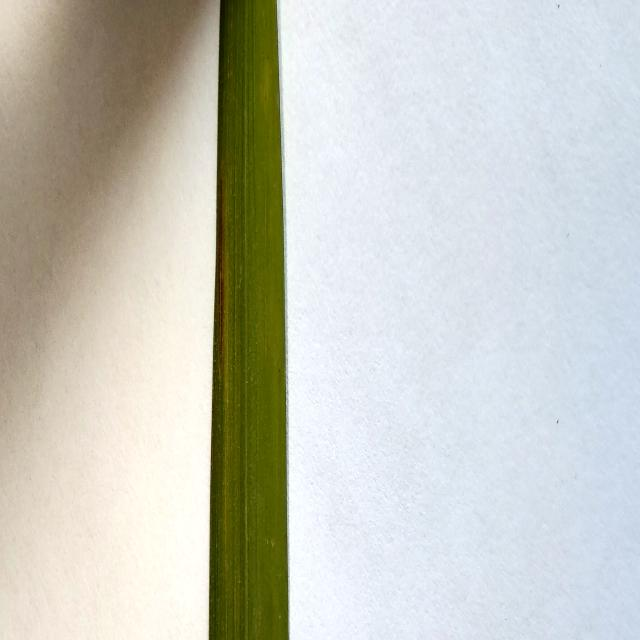NBS: (218, 178, 223, 367)
